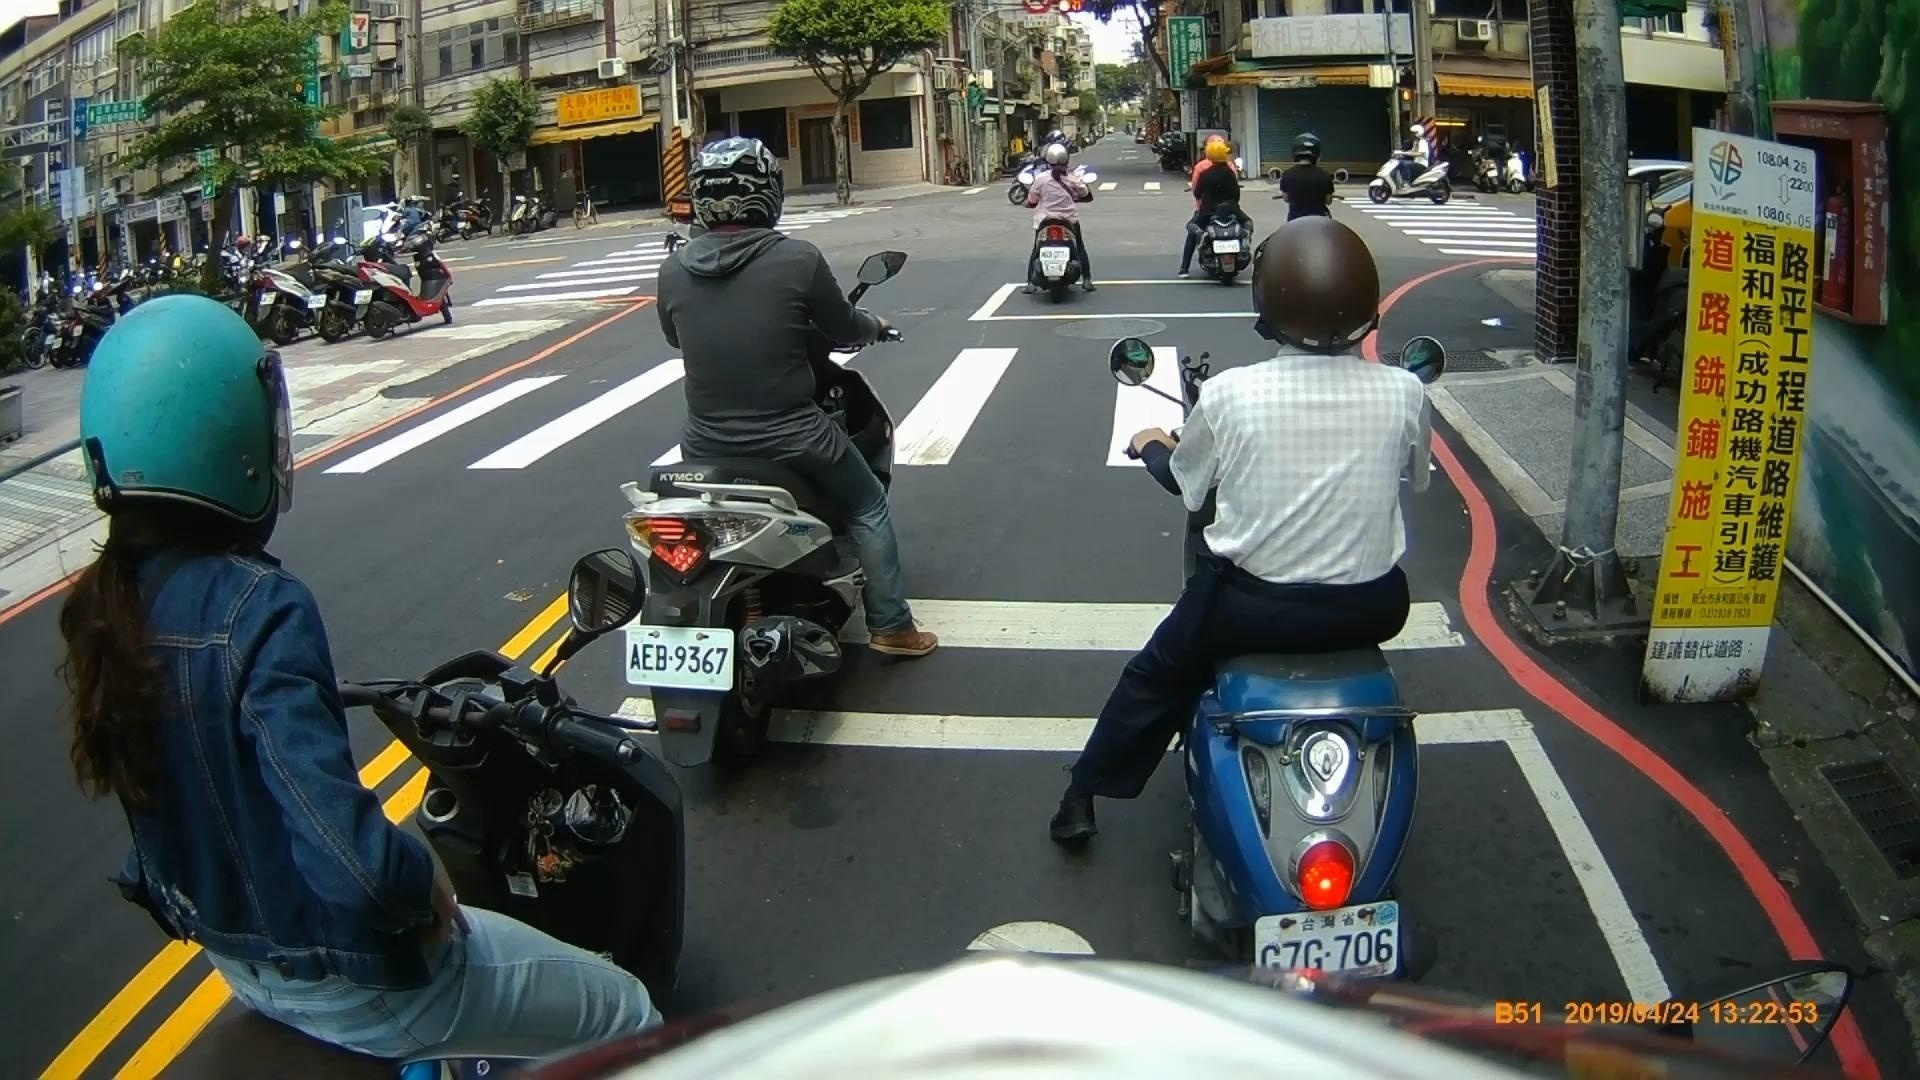License_plate: (1251, 899, 1403, 982), (618, 624, 736, 691)
